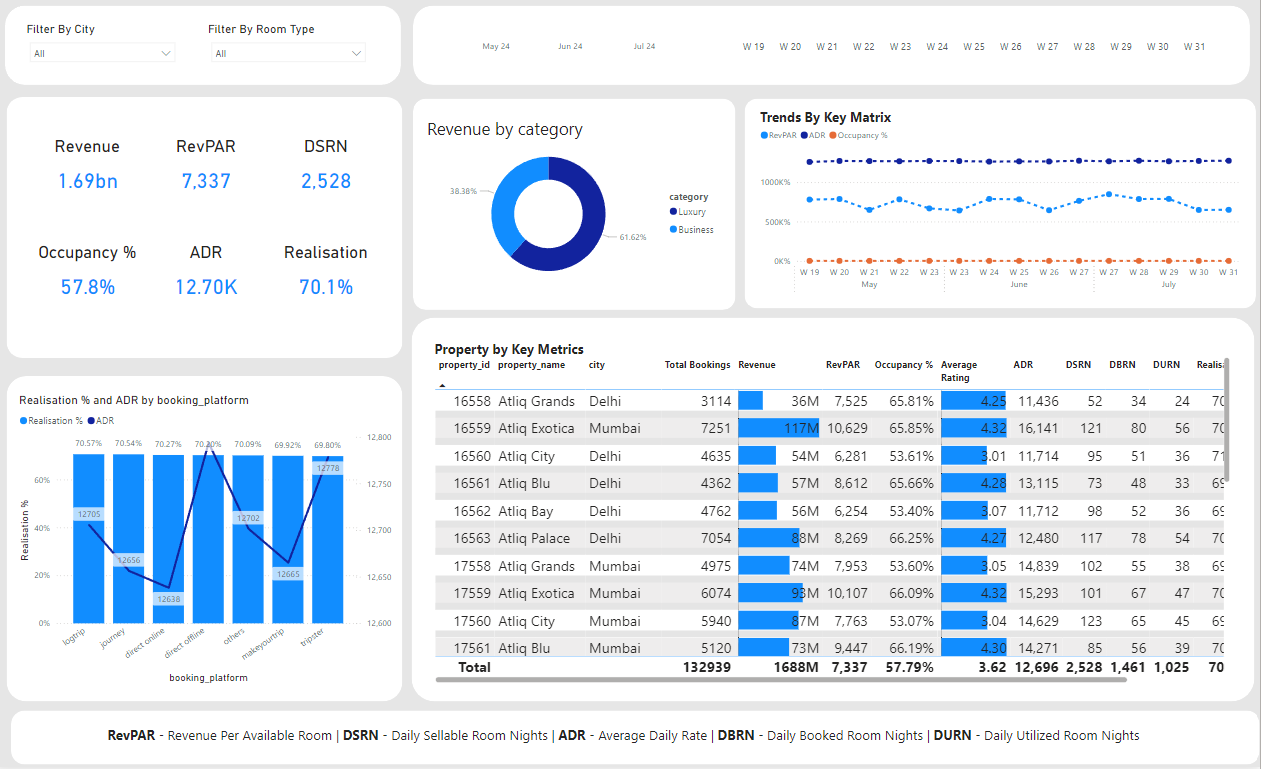

What the dashboard file says about the page in this screenshot:
{"tool":"powerbi","page":{"name":"Page 1","canvas":[1800,1100],"ordinal":0},"visuals":[{"type":"shape","box":[19.2,545.8,562.1,462.1],"z":0},{"type":"shape","box":[594.1,462.1,1196.7,545.1],"z":1000},{"type":"shape","box":[1066.8,151.9,726.1,298.1],"z":2000},{"type":"shape","box":[596.2,151.9,457.8,300.2],"z":3000},{"type":"shape","box":[19.2,149.8,562.1,370.5],"z":4000},{"type":"shape","box":[17,19.9,562.1,112.9],"z":5000},{"type":"shape","box":[596.2,19.9,1188.2,112.9],"z":6000},{"type":"tableEx","title":"Property by Key Metrics","fields":{"Values":["dim_hotels.property_id","dim_hotels.property_name","dim_hotels.city","key_measures.Total Bookings","key_measures.Revenue","key_measures.RevPAR","key_measures.Occupancy %","key_measures.Average Rating","key_measures.ADR","key_measures.DSRN","key_measures.DBRN","key_measures.DURN"]},"box":[621.8,494,1139.2,491.9],"z":13000},{"type":"slicer","title":"Filter By City","fields":{"Values":["dim_hotels.city"]},"box":[42.6,43.3,225.7,66],"z":14000},{"type":"slicer","title":"Filter By Room Type","fields":{"Values":["dim_rooms.room_class"]},"box":[300.2,43.3,238.5,66],"z":15000},{"type":"slicer","fields":{"Values":["dim_date.mmm yy"]},"box":[636.7,34.8,364.1,85.2],"z":16000},{"type":"slicer","fields":{"Values":["dim_date.week no"]},"box":[1027.8,38.7,726.1,76.7],"z":17000},{"type":"card","title":"Revenue","fields":{"Values":["key_measures.Revenue"]},"box":[49.4,204.1,169.6,93.9],"z":18000},{"type":"donutChart","fields":{"Category":["dim_hotels.category"],"Y":["key_measures.Revenue"]},"box":[611.1,177.4,428,251.3],"z":19000},{"type":"card","title":"RevPAR","fields":{"Values":["key_measures.RevPAR"]},"box":[218.2,204.1,169.6,93.9],"z":20000},{"type":"card","title":"DSRN","fields":{"Values":["key_measures.DSRN"]},"box":[387.4,204.1,169.6,93.9],"z":21000},{"type":"card","title":"Occupancy %","fields":{"Values":["key_measures.Occupancy %"]},"box":[49.4,355.4,169.6,93.9],"z":22000},{"type":"card","title":"ADR","fields":{"Values":["key_measures.ADR"]},"box":[218.2,355.4,169.6,93.9],"z":23000},{"type":"card","title":"Realisation","fields":{"Values":["key_measures.Realisation %"]},"box":[387.4,355.4,169.6,93.9],"z":24000},{"type":"lineChart","title":"Trends By Key Matrix","fields":{"Category":["dim_date.mmm yy.Variation.Date Hierarchy.Month","dim_date.week no"],"Y":["key_measures.RevPAR","key_measures.ADR","key_measures.Occupancy %"]},"box":[1083.8,164.7,692,272.6],"z":25000},{"type":"lineStackedColumnComboChart","fields":{"Category":["fact_bookings.booking_platform"],"Y":["key_measures.Realisation %"],"Y2":["key_measures.ADR"]},"box":[31.9,569.2,538.7,417.4],"z":26000},{"type":"shape","box":[25.6,1020,1773.7,76.7],"z":27000},{"type":"textbox","box":[157.6,1037,1484.2,42.6],"z":28000}]}

Visuals, with their boxes in screenshot pixels (x1, y1, x2, y2), scaled from the page's 1800x1100 canvas onto the 1261x769 screenshot:
shape: x1=13 y1=382 x2=407 y2=705
shape: x1=416 y1=323 x2=1255 y2=704
shape: x1=747 y1=106 x2=1256 y2=315
shape: x1=418 y1=106 x2=738 y2=316
shape: x1=13 y1=105 x2=407 y2=364
shape: x1=12 y1=14 x2=406 y2=93
shape: x1=418 y1=14 x2=1250 y2=93
"Property by Key Metrics" tableEx: x1=436 y1=345 x2=1234 y2=689
"Filter By City" slicer: x1=30 y1=30 x2=188 y2=76
"Filter By Room Type" slicer: x1=210 y1=30 x2=377 y2=76
slicer - dim_date.mmm yy: x1=446 y1=24 x2=701 y2=84
slicer - dim_date.week no: x1=720 y1=27 x2=1229 y2=81
"Revenue" card: x1=35 y1=143 x2=153 y2=208
donutChart - dim_hotels.category x key_measures.Revenue: x1=428 y1=124 x2=728 y2=300
"RevPAR" card: x1=153 y1=143 x2=272 y2=208
"DSRN" card: x1=271 y1=143 x2=390 y2=208
"Occupancy %" card: x1=35 y1=248 x2=153 y2=314
"ADR" card: x1=153 y1=248 x2=272 y2=314
"Realisation" card: x1=271 y1=248 x2=390 y2=314
"Trends By Key Matrix" lineChart: x1=759 y1=115 x2=1244 y2=306
lineStackedColumnComboChart - fact_bookings.booking_platform x key_measures.Realisation %: x1=22 y1=398 x2=400 y2=690
shape: x1=18 y1=713 x2=1260 y2=767
textbox: x1=110 y1=725 x2=1150 y2=755
